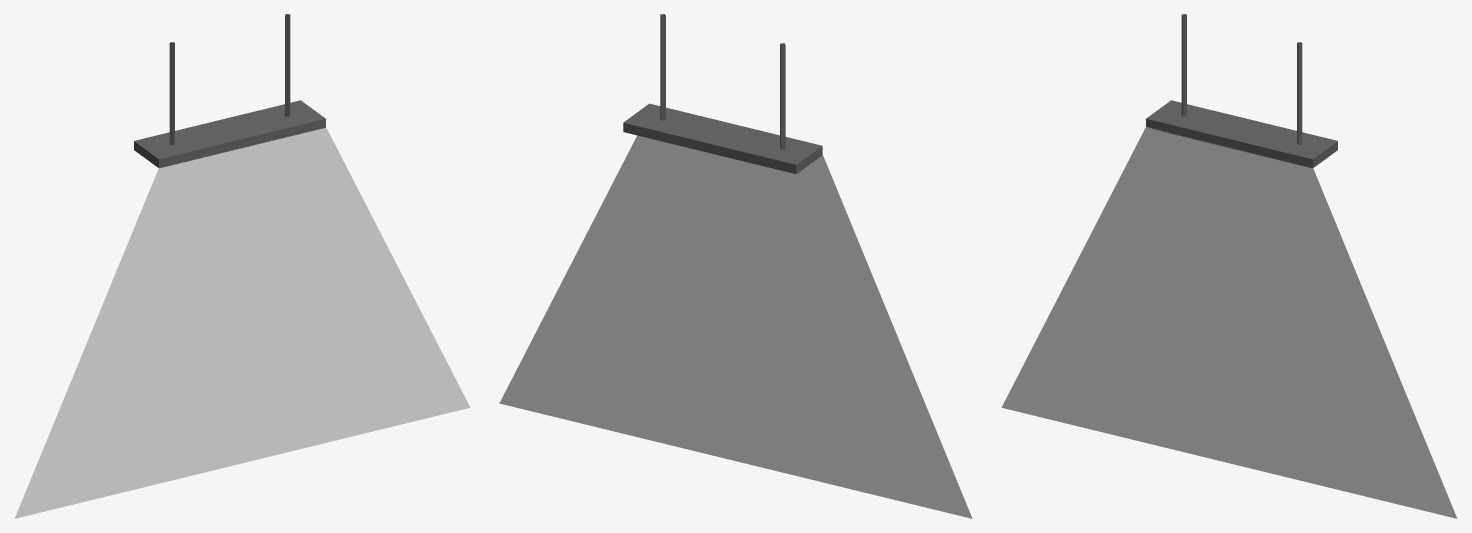
The model's file is Lamp.fbx.
3 renders of one model, left to right at view 1: azimuth 30°, elevation 25°; view 2: azimuth 150°, elevation 25°; view 3: azimuth 330°, elevation 25°, orthographic. The views are drawn at different scales.
Visible parts, largest first — view 1: Lamp; view 2: Lamp; view 3: Lamp.
Boxes of the visible parts, <box> form: Lamp: <box>14,14,470,518</box>; Lamp: <box>499,14,972,518</box>; Lamp: <box>1001,14,1457,518</box>.
Bounding box in the file's own units: 903 × 804 × 86.4.
